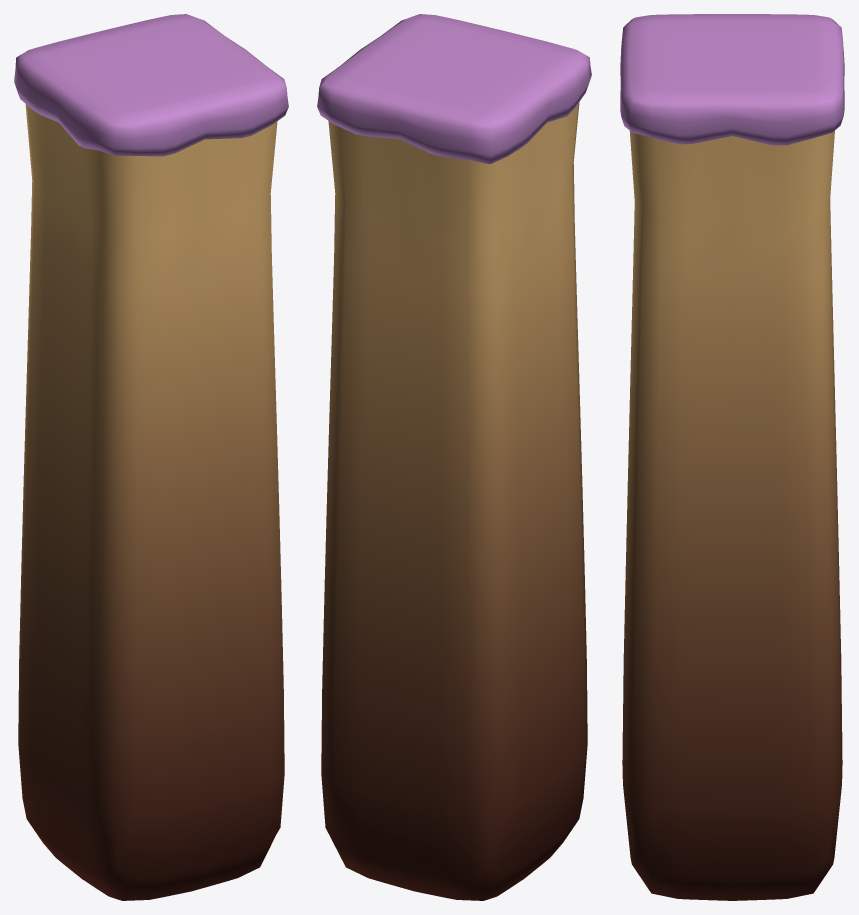
The model's file is TileCandy_8m.fbx.
3 renders of one model, left to right at view 1: azimuth 30°, elevation 25°; view 2: azimuth 150°, elevation 25°; view 3: azimuth 270°, elevation 25°, orthographic.
Visible parts, largest first — view 1: TileCandy_8m; view 2: TileCandy_8m; view 3: TileCandy_8m.
Part boxes in pixels (left/top/right/bottom): TileCandy_8m: left=14, top=14, right=288, bottom=900; TileCandy_8m: left=317, top=14, right=591, bottom=900; TileCandy_8m: left=620, top=14, right=844, bottom=900.
Bounding box in the file's own units: 2 × 8 × 2.
